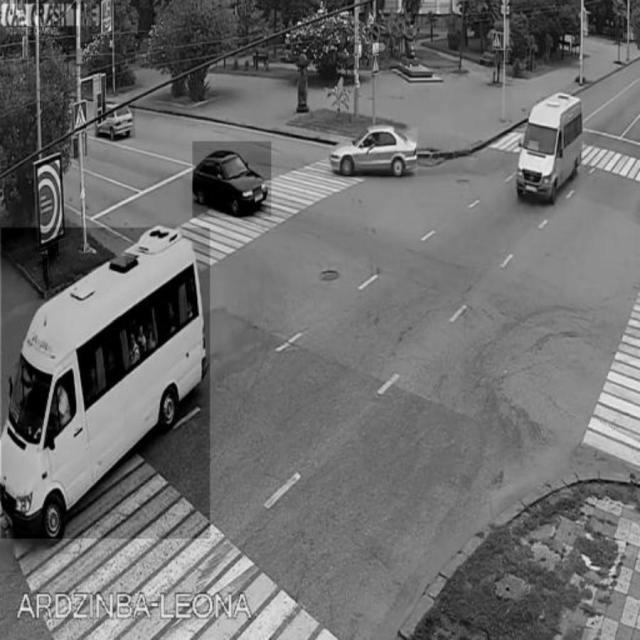vehicle: (2, 228, 210, 539), (513, 90, 585, 202), (193, 141, 271, 217), (330, 128, 418, 175), (95, 102, 135, 138)
